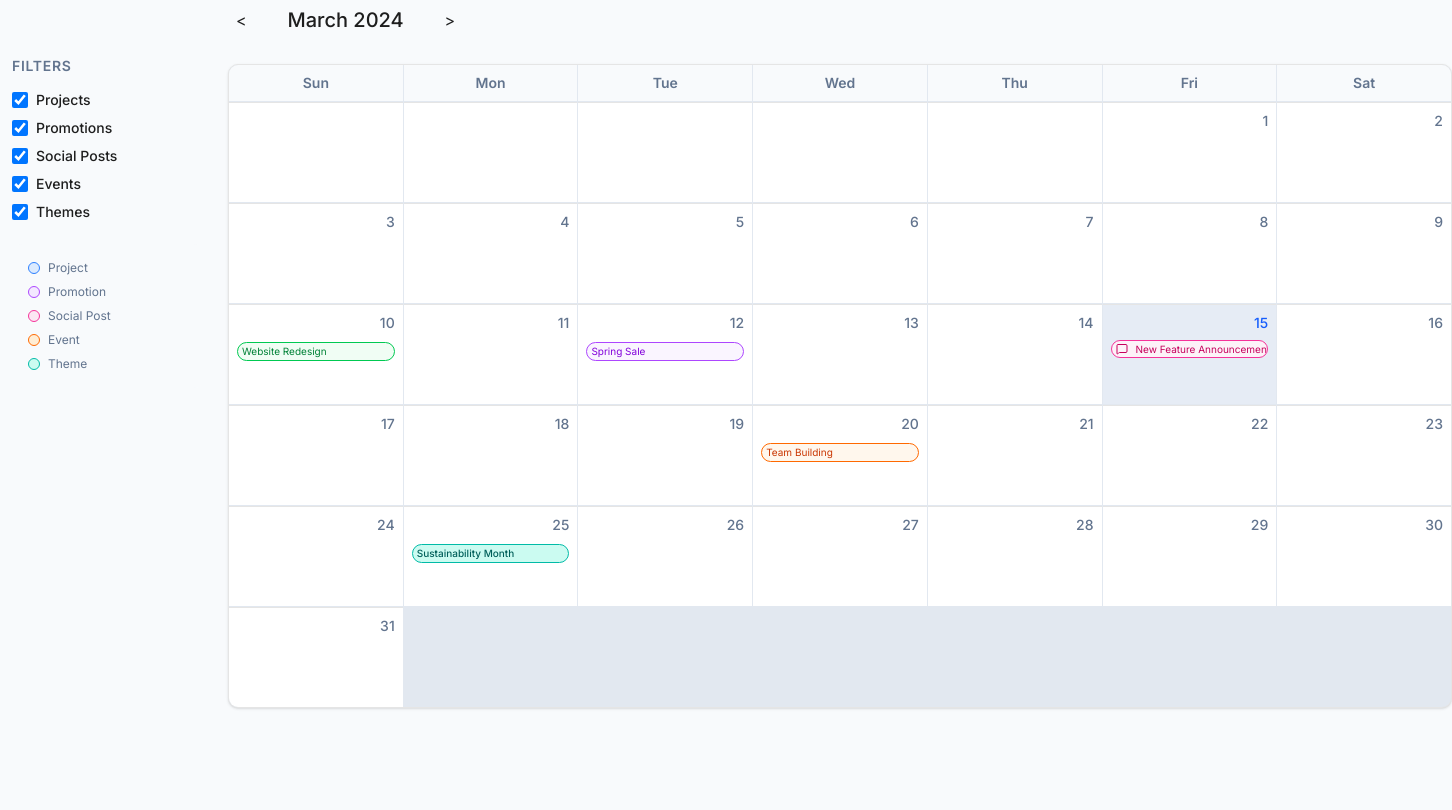
Test case: CalendarView › filters events when sidebar checkboxes are toggled
Expected: the text "Website Redesign" is shown, [237,342,395,360]
Expected: the text "Spring Sale" is shown, [586,342,744,360]
Note: Uncheck Projects
Click the checkbox labelled "Projects" at (20, 100), box [12,92,28,108]
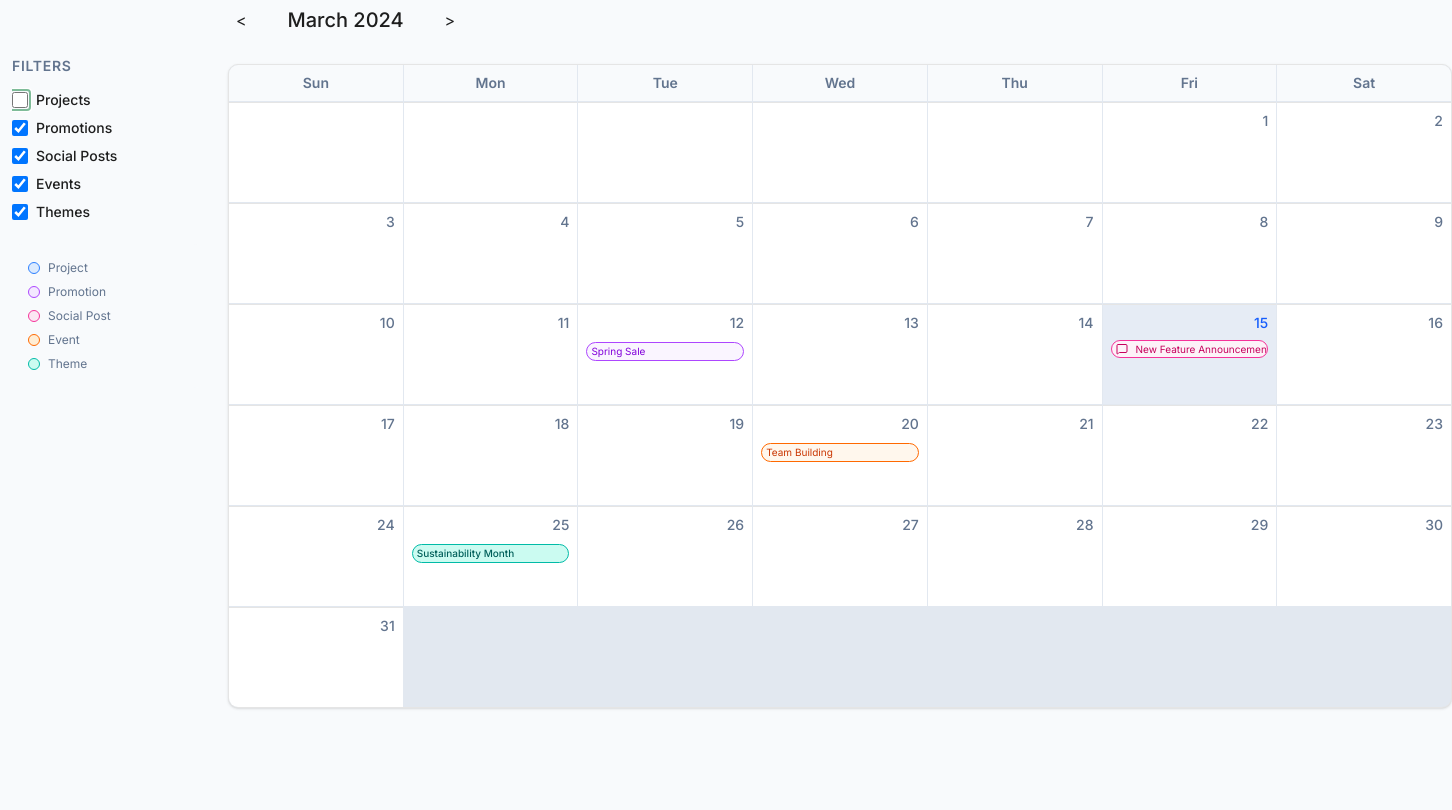
Expected: the link "Website Redesign" is gone
Note: Uncheck Promotions
Click the checkbox labelled "Promotions" at (20, 128), box [12,120,28,136]
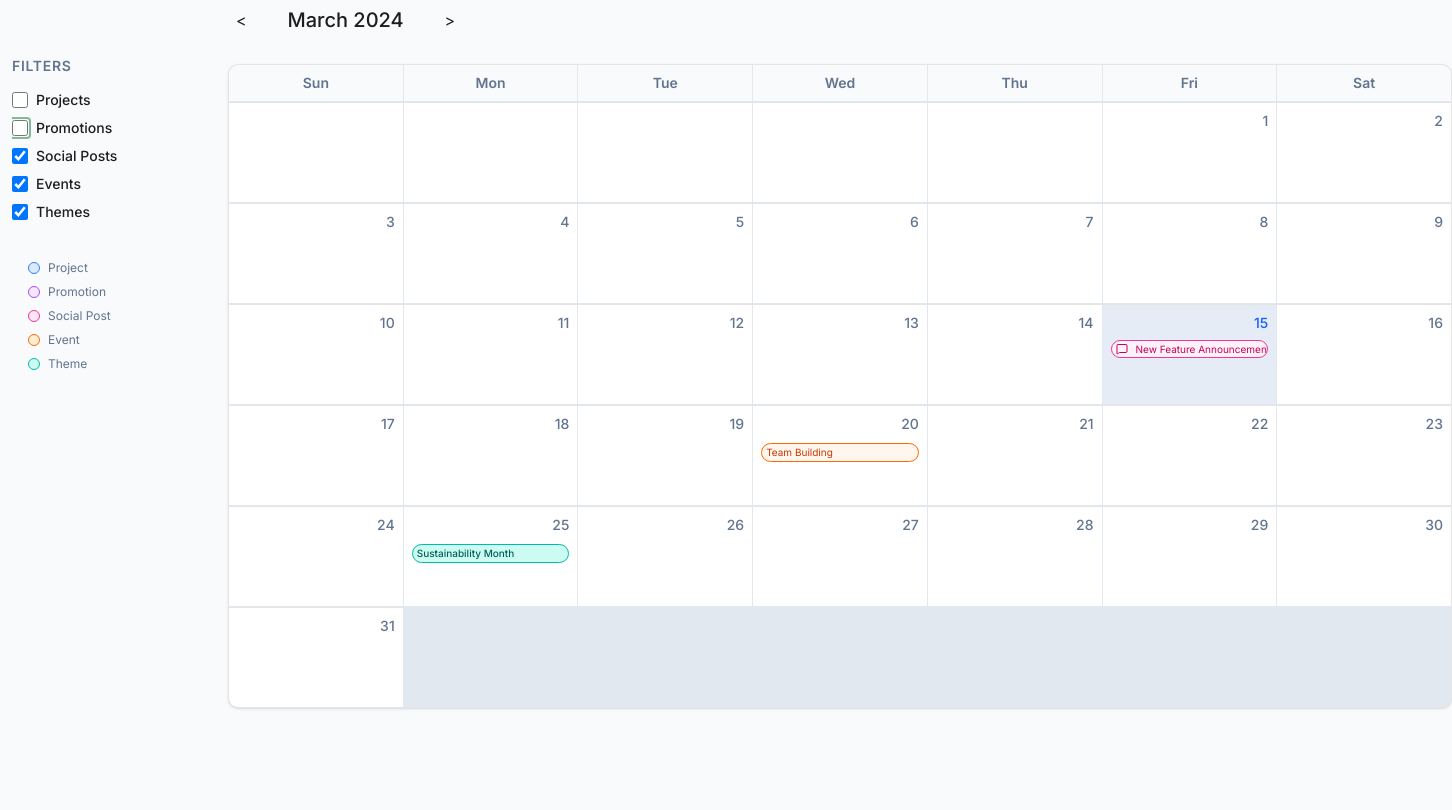
Expected: the link "Spring Sale" is gone
Note: Uncheck Social Posts
Click the checkbox labelled "Social Posts" at (20, 156), box [12,148,28,164]
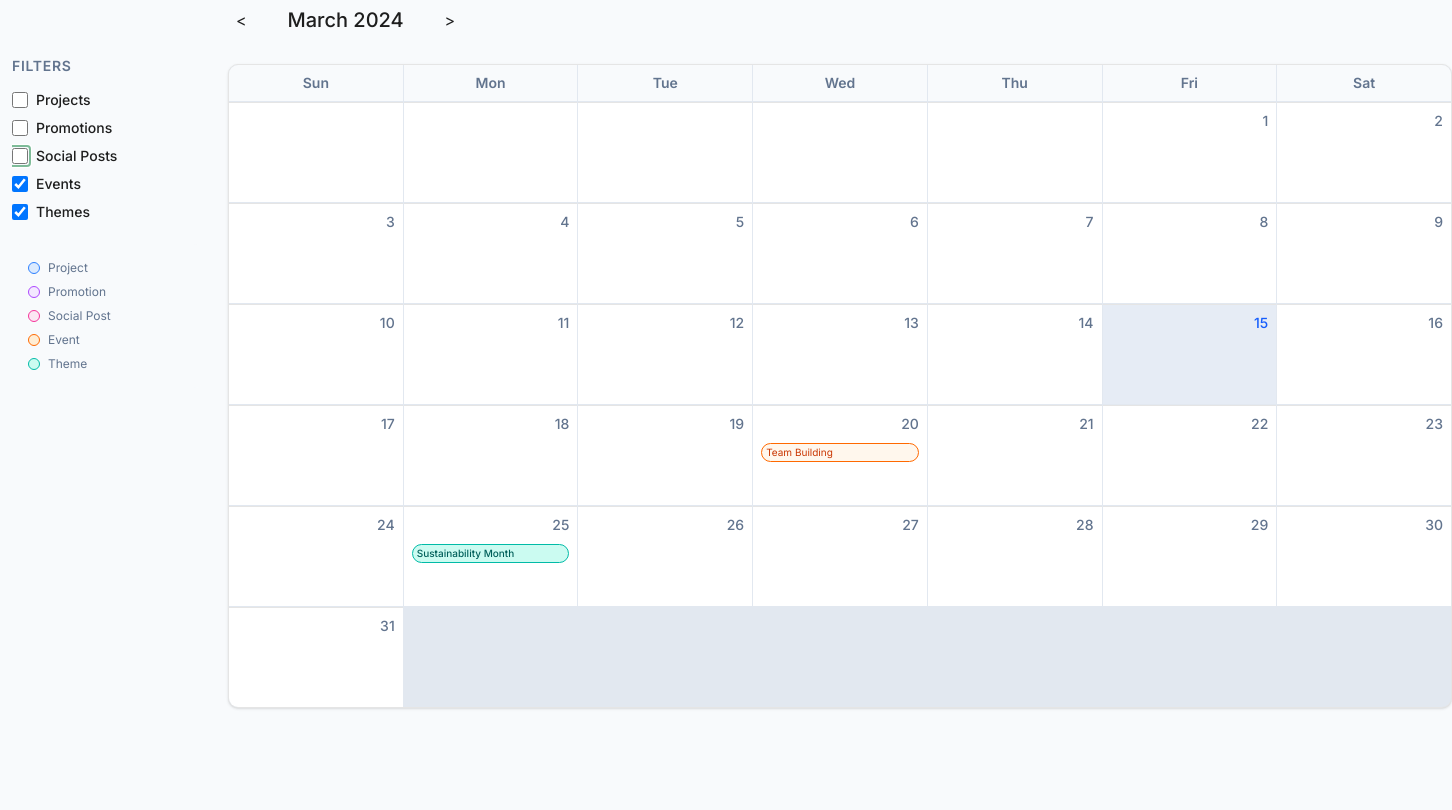
Expected: the link "New Feature Announcement" is gone
Note: Uncheck Events
Click the checkbox labelled "Events" at (20, 184), box [12,176,28,192]
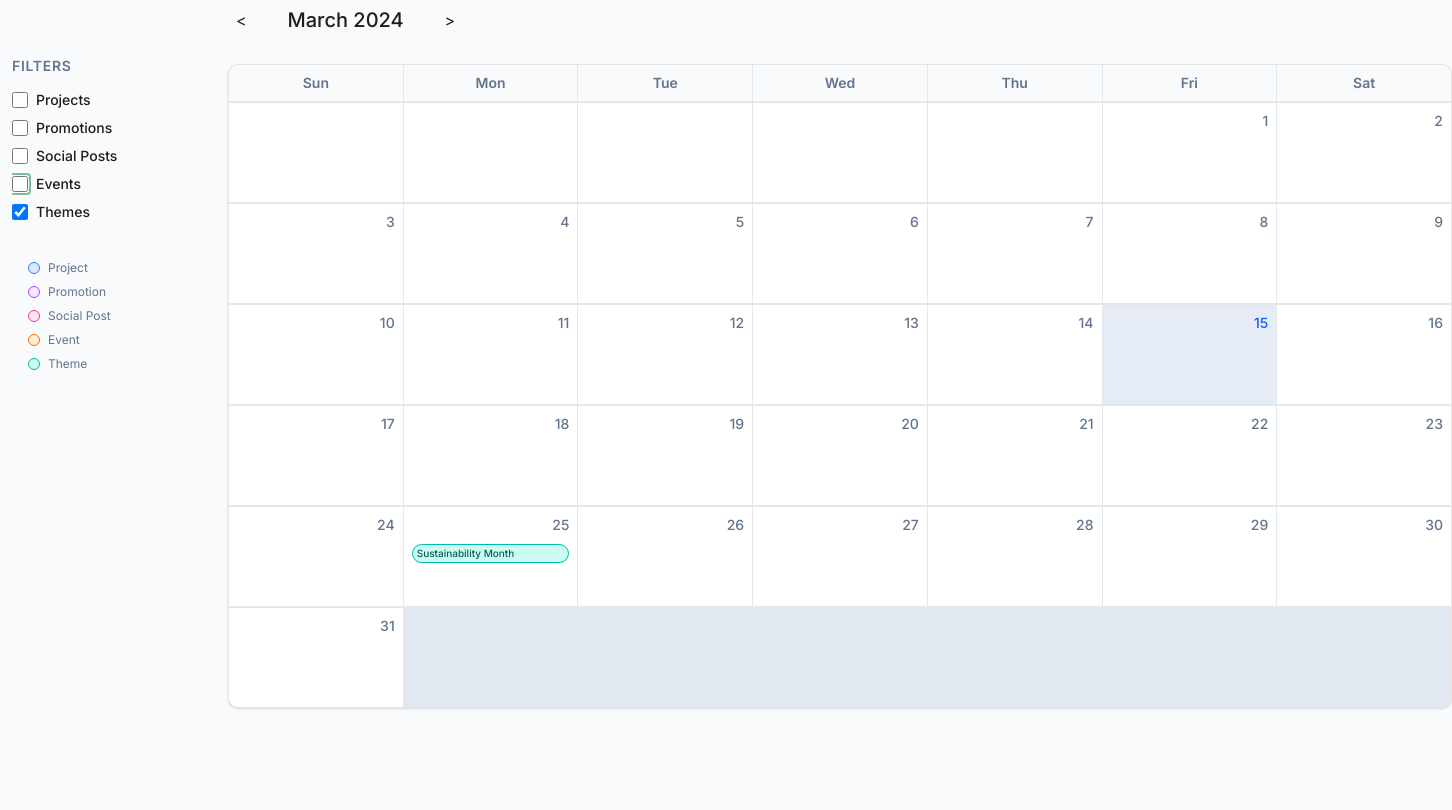
Expected: the link "Team Building" is gone
Note: Uncheck Themes
Click the checkbox labelled "Themes" at (20, 212), box [12,204,28,220]
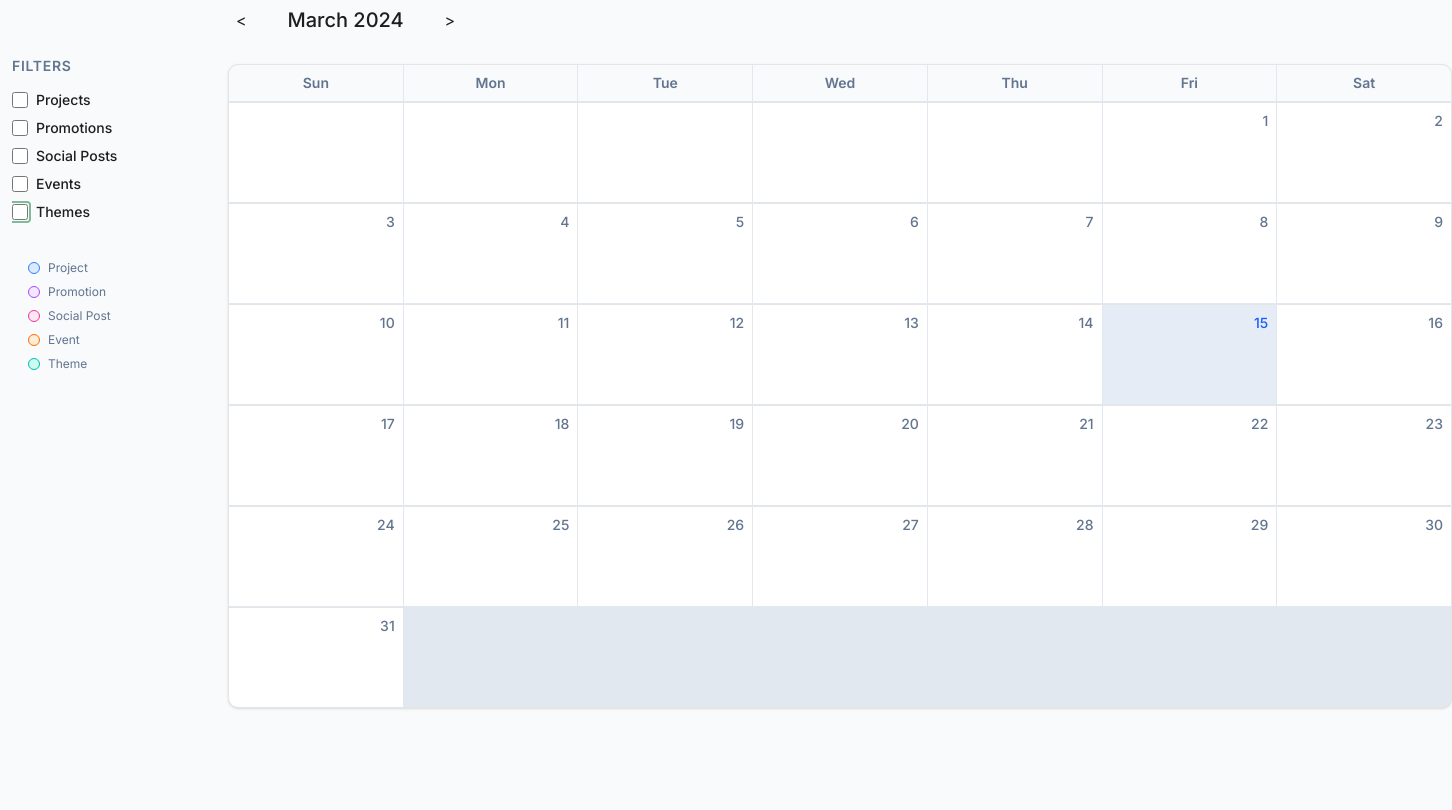
Expected: the link "Sustainability Month" is gone
Note: Re-check Projects
Click the checkbox labelled "Projects" at (20, 100), box [12,92,28,108]
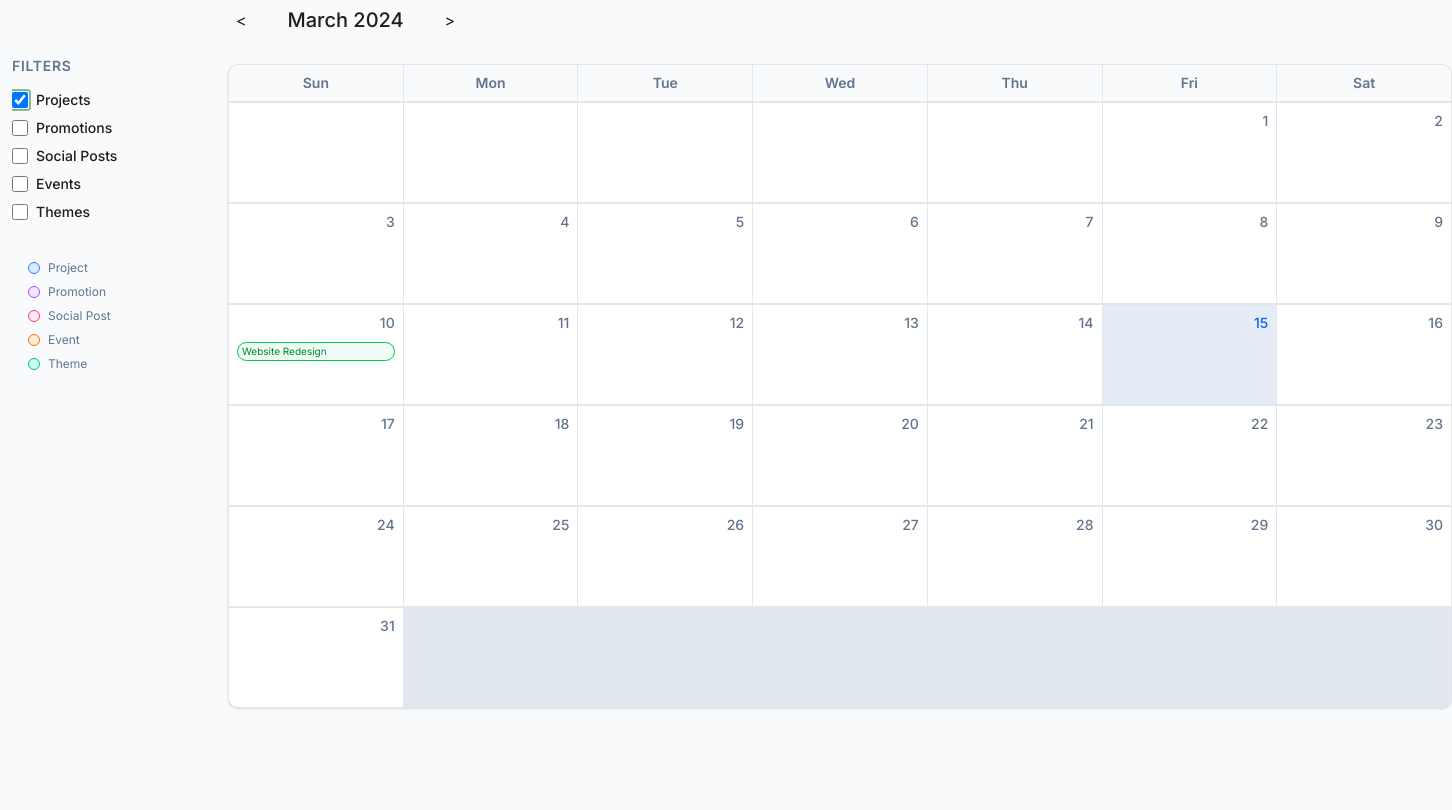
Expected: the text "Website Redesign" is shown, [237,342,395,360]
